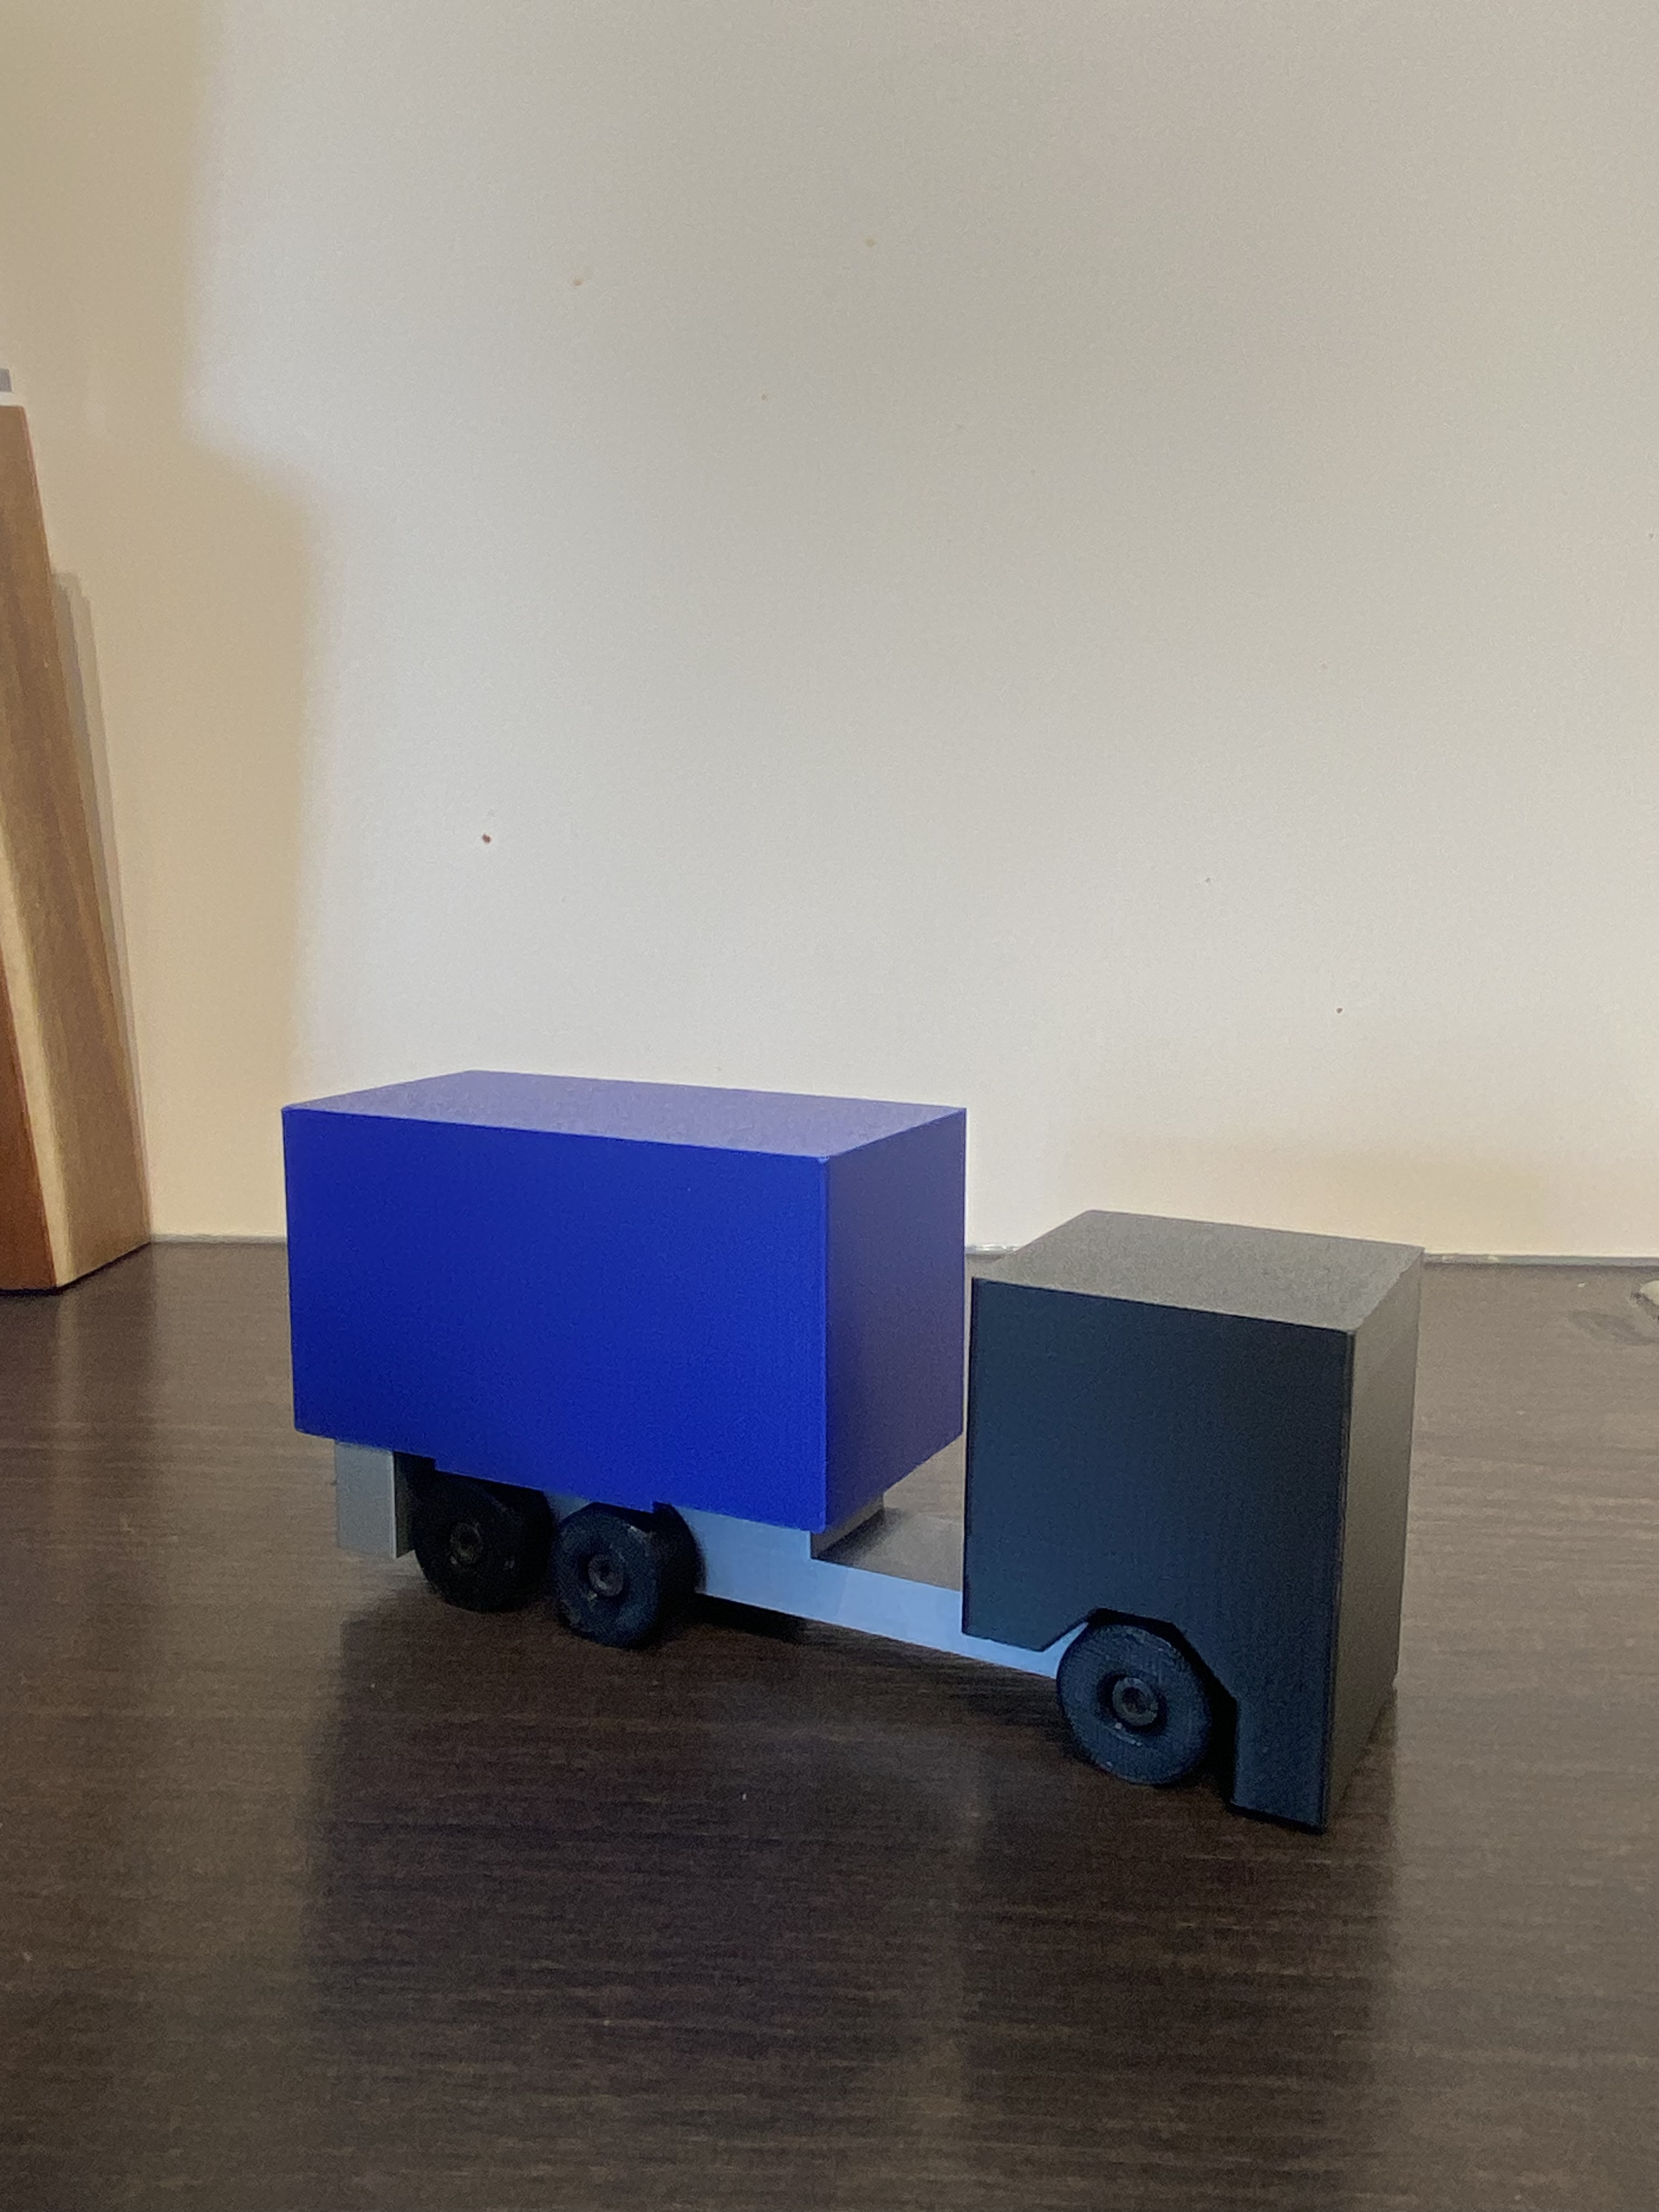blue_truck: (282, 1054, 1436, 1844)
